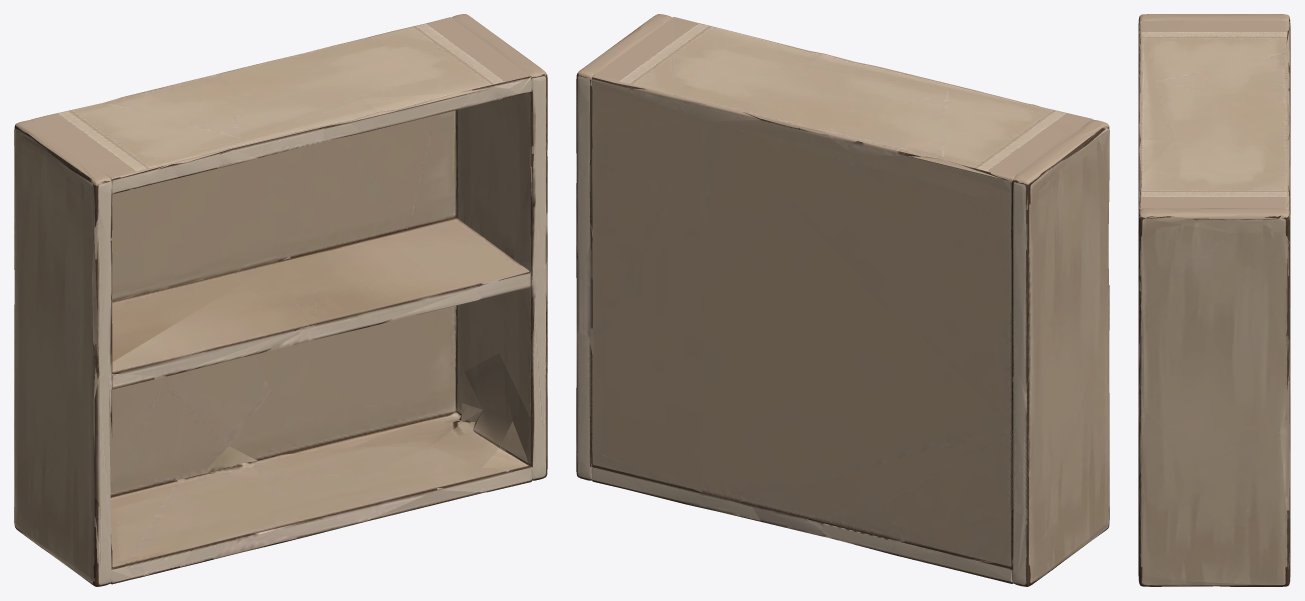
File: shelf_low.glb
The picture shows the model from 3 angles, left to right: view 1: azimuth 30°, elevation 25°; view 2: azimuth 150°, elevation 25°; view 3: azimuth 270°, elevation 25°; orthographic projection. The views are drawn at different scales.
Size of the model in its own units: 1.9 by 1.63 by 0.6038.
1 material, 1 textured.
